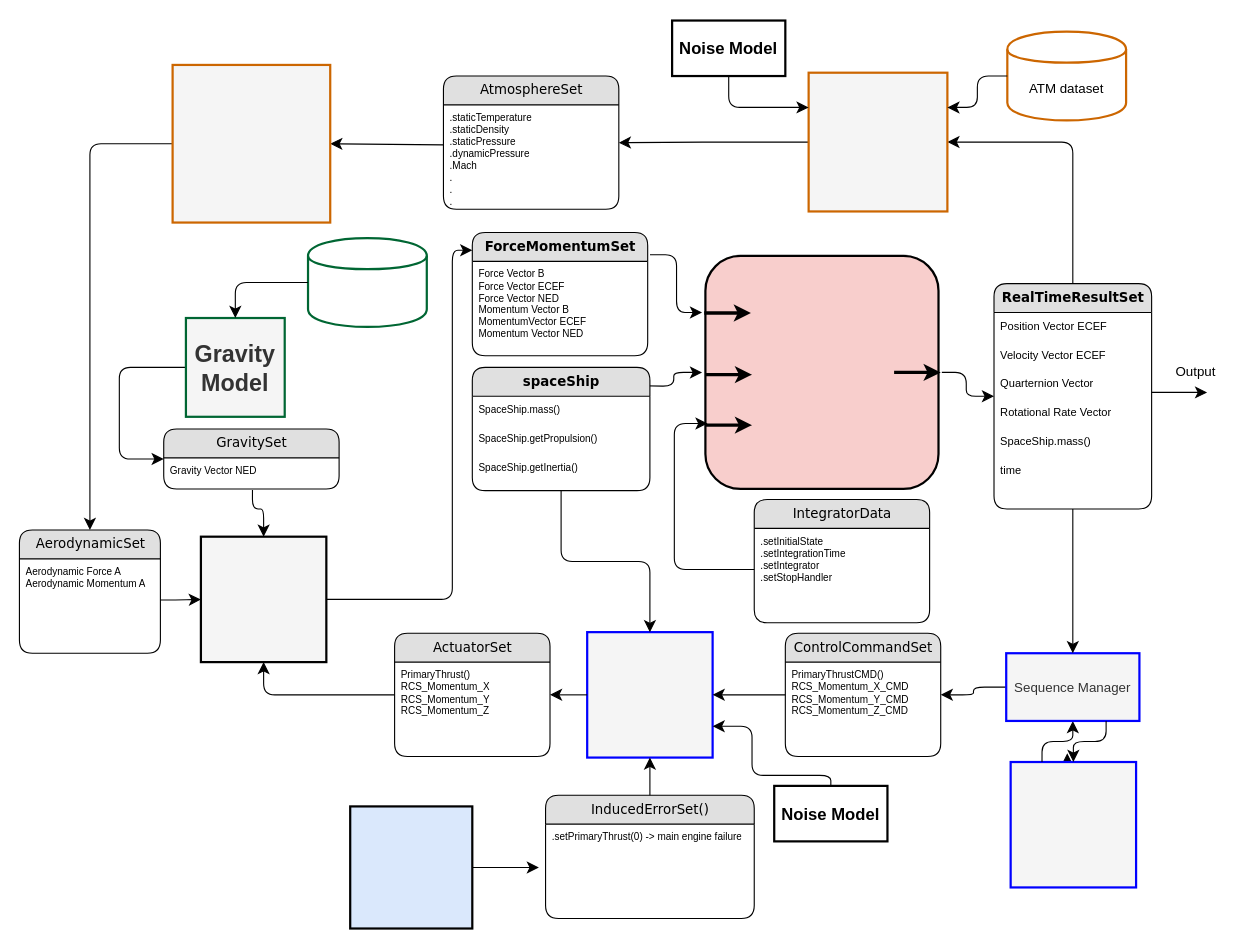
Some shapes in this 1238 by 948 pixel diagram are drawn without their labels. The centre of each missing label's shape, as x and y in pixels:
6 DoF Module: (x=821, y=372)
Actuator Model: (x=649, y=694)
Aerodynamic Model: (x=251, y=143)
Atmosphere Model: (x=877, y=141)
Controller Model: (x=1073, y=824)
Force Model: (x=263, y=599)
Gravity Coeffients J n , C n m , S n m: (x=366, y=281)
System Error Model: (x=411, y=867)
